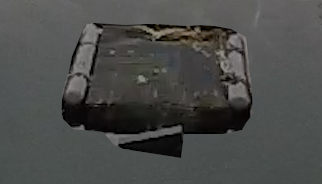bag: (58, 21, 255, 160)
